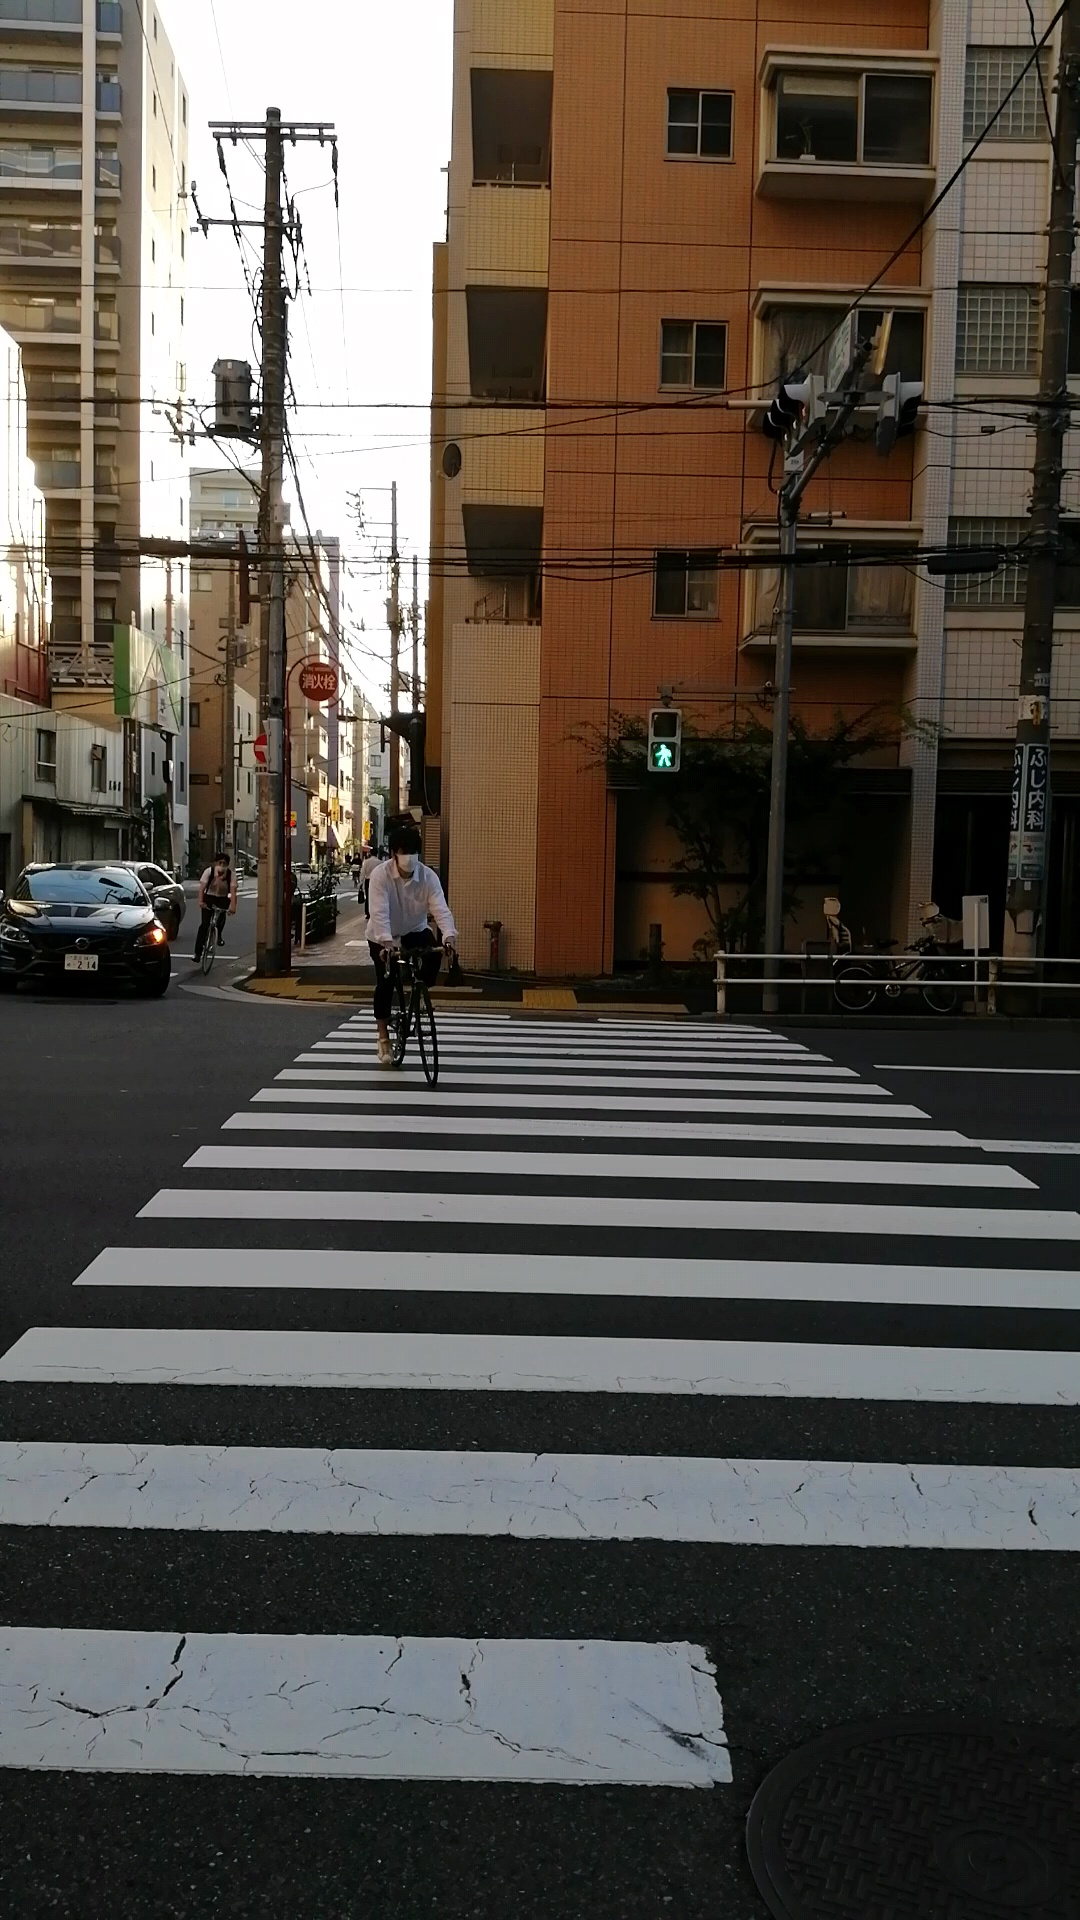green: (646, 705, 680, 774)
